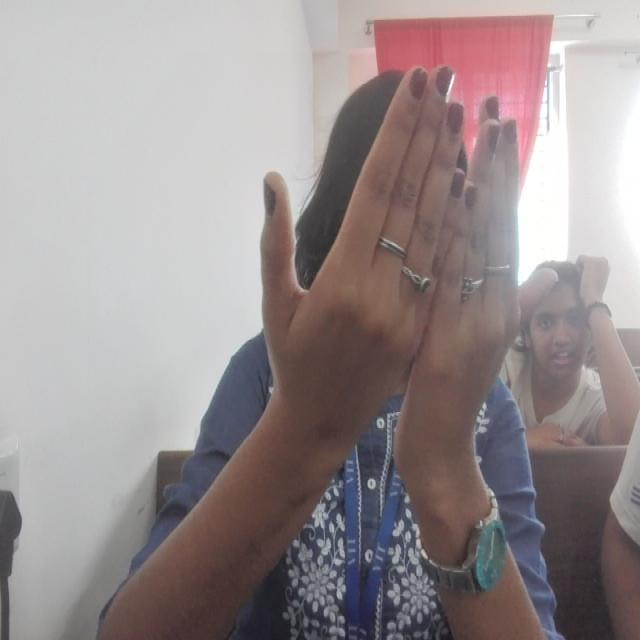thankyou: (252, 61, 560, 441)
